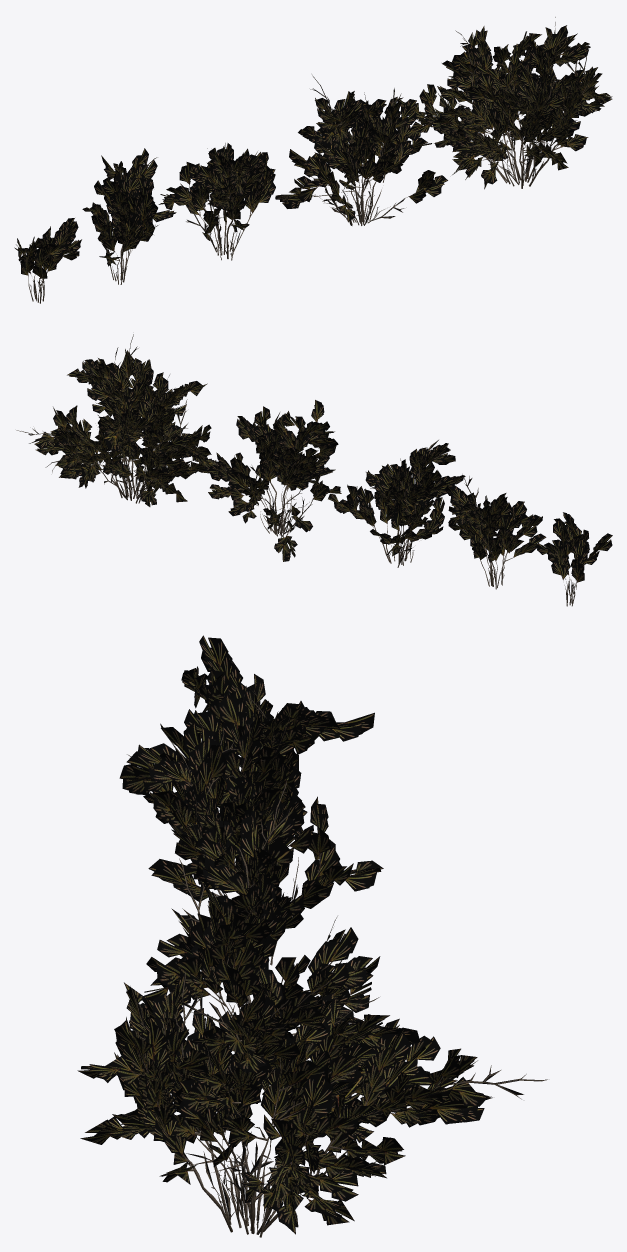
3 renders of one model, top to bottom at view 1: azimuth 30°, elevation 25°; view 2: azimuth 150°, elevation 25°; view 3: azimuth 270°, elevation 25°, orthographic. The views are drawn at different scales.
Parts seen in each view (by area): view 1: wild_rooibos_bush_a, wild_rooibos_bush_b, wild_rooibos_bush_c, wild_rooibos_bush_d, wild_rooibos_bush_e; view 2: wild_rooibos_bush_a, wild_rooibos_bush_b, wild_rooibos_bush_c, wild_rooibos_bush_d, wild_rooibos_bush_e; view 3: wild_rooibos_bush_a, wild_rooibos_bush_b, wild_rooibos_bush_c, wild_rooibos_bush_d, wild_rooibos_bush_e.
Part boxes in pixels (left/top/right/bottom): wild_rooibos_bush_a: left=397, top=17, right=612, bottom=189; wild_rooibos_bush_b: left=275, top=75, right=447, bottom=225; wild_rooibos_bush_c: left=158, top=143, right=275, bottom=260; wild_rooibos_bush_d: left=82, top=148, right=176, bottom=284; wild_rooibos_bush_e: left=14, top=218, right=81, bottom=303; wild_rooibos_bush_a: left=16, top=334, right=218, bottom=506; wild_rooibos_bush_b: left=201, top=400, right=341, bottom=561; wild_rooibos_bush_c: left=328, top=440, right=465, bottom=567; wild_rooibos_bush_d: left=445, top=474, right=546, bottom=589; wild_rooibos_bush_e: left=537, top=512, right=612, bottom=606; wild_rooibos_bush_a: left=77, top=964, right=547, bottom=1237; wild_rooibos_bush_b: left=129, top=780, right=380, bottom=1089; wild_rooibos_bush_c: left=119, top=722, right=383, bottom=965; wild_rooibos_bush_d: left=160, top=674, right=374, bottom=865; wild_rooibos_bush_e: left=181, top=635, right=272, bottom=755.
Size of the model in its own units: 2.27 by 0.541 by 0.8432.
Materials: 2 (2 with a texture image).
